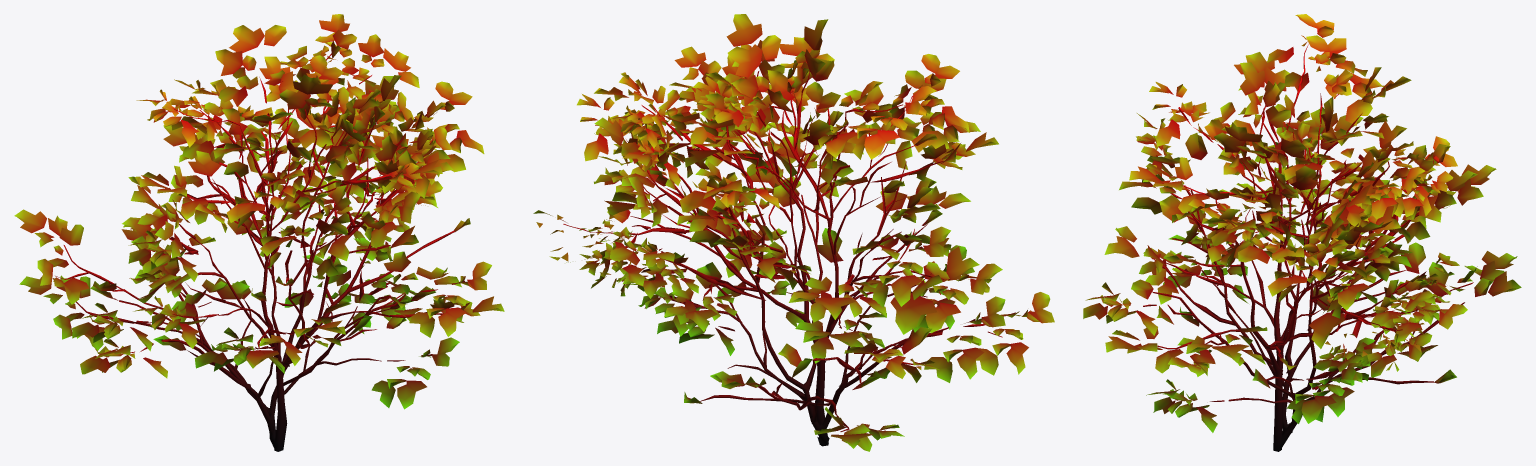
File: SM_EuropeanHornbeam_Sapling_03.fbx
3 views of the same model, side by side, from view 1: azimuth 30°, elevation 25°; view 2: azimuth 150°, elevation 25°; view 3: azimuth 270°, elevation 25° (orthographic). The views are drawn at different scales.
Visible parts, largest first — view 1: SM_EuropeanHornbeam_Sapling_03; view 2: SM_EuropeanHornbeam_Sapling_03; view 3: SM_EuropeanHornbeam_Sapling_03.
Part boxes in pixels (left/top/right/bottom): SM_EuropeanHornbeam_Sapling_03: left=14, top=14, right=504, bottom=451; SM_EuropeanHornbeam_Sapling_03: left=533, top=14, right=1054, bottom=451; SM_EuropeanHornbeam_Sapling_03: left=1083, top=14, right=1521, bottom=451.
Size of the model in its own units: 203 by 179 by 178.
